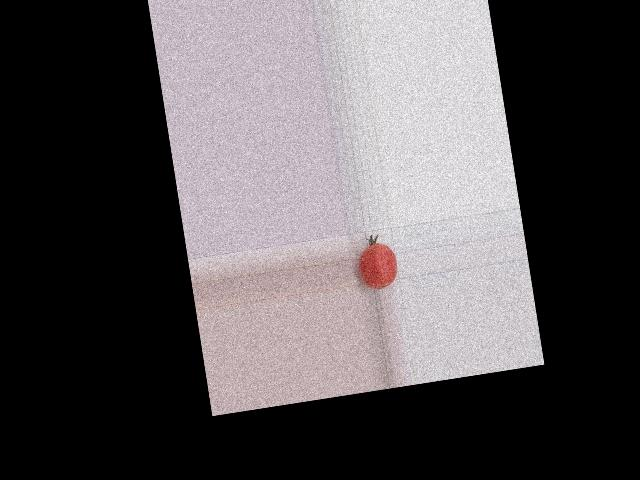tomato: (356, 241, 400, 291)
